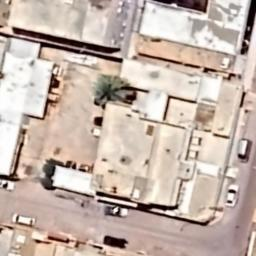sedan: (8, 208, 38, 226), (224, 183, 244, 209), (236, 136, 254, 164), (100, 206, 134, 220), (0, 178, 18, 196)
unknown: (99, 232, 135, 251)
